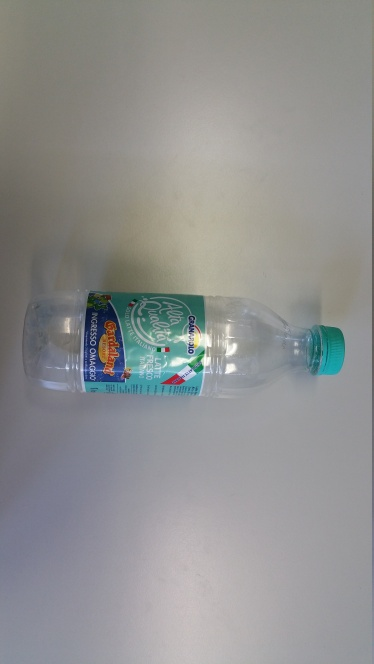bottle: (20, 292, 355, 407)
